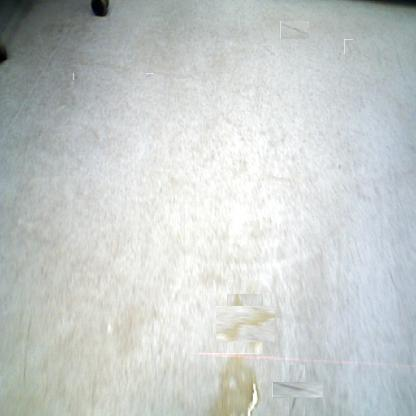liquid: (209, 353, 259, 416), (221, 300, 269, 348)
mark: (281, 374, 314, 407), (280, 21, 309, 39), (342, 40, 355, 53), (261, 44, 275, 56), (337, 162, 342, 172), (147, 73, 154, 79), (73, 73, 78, 80)
